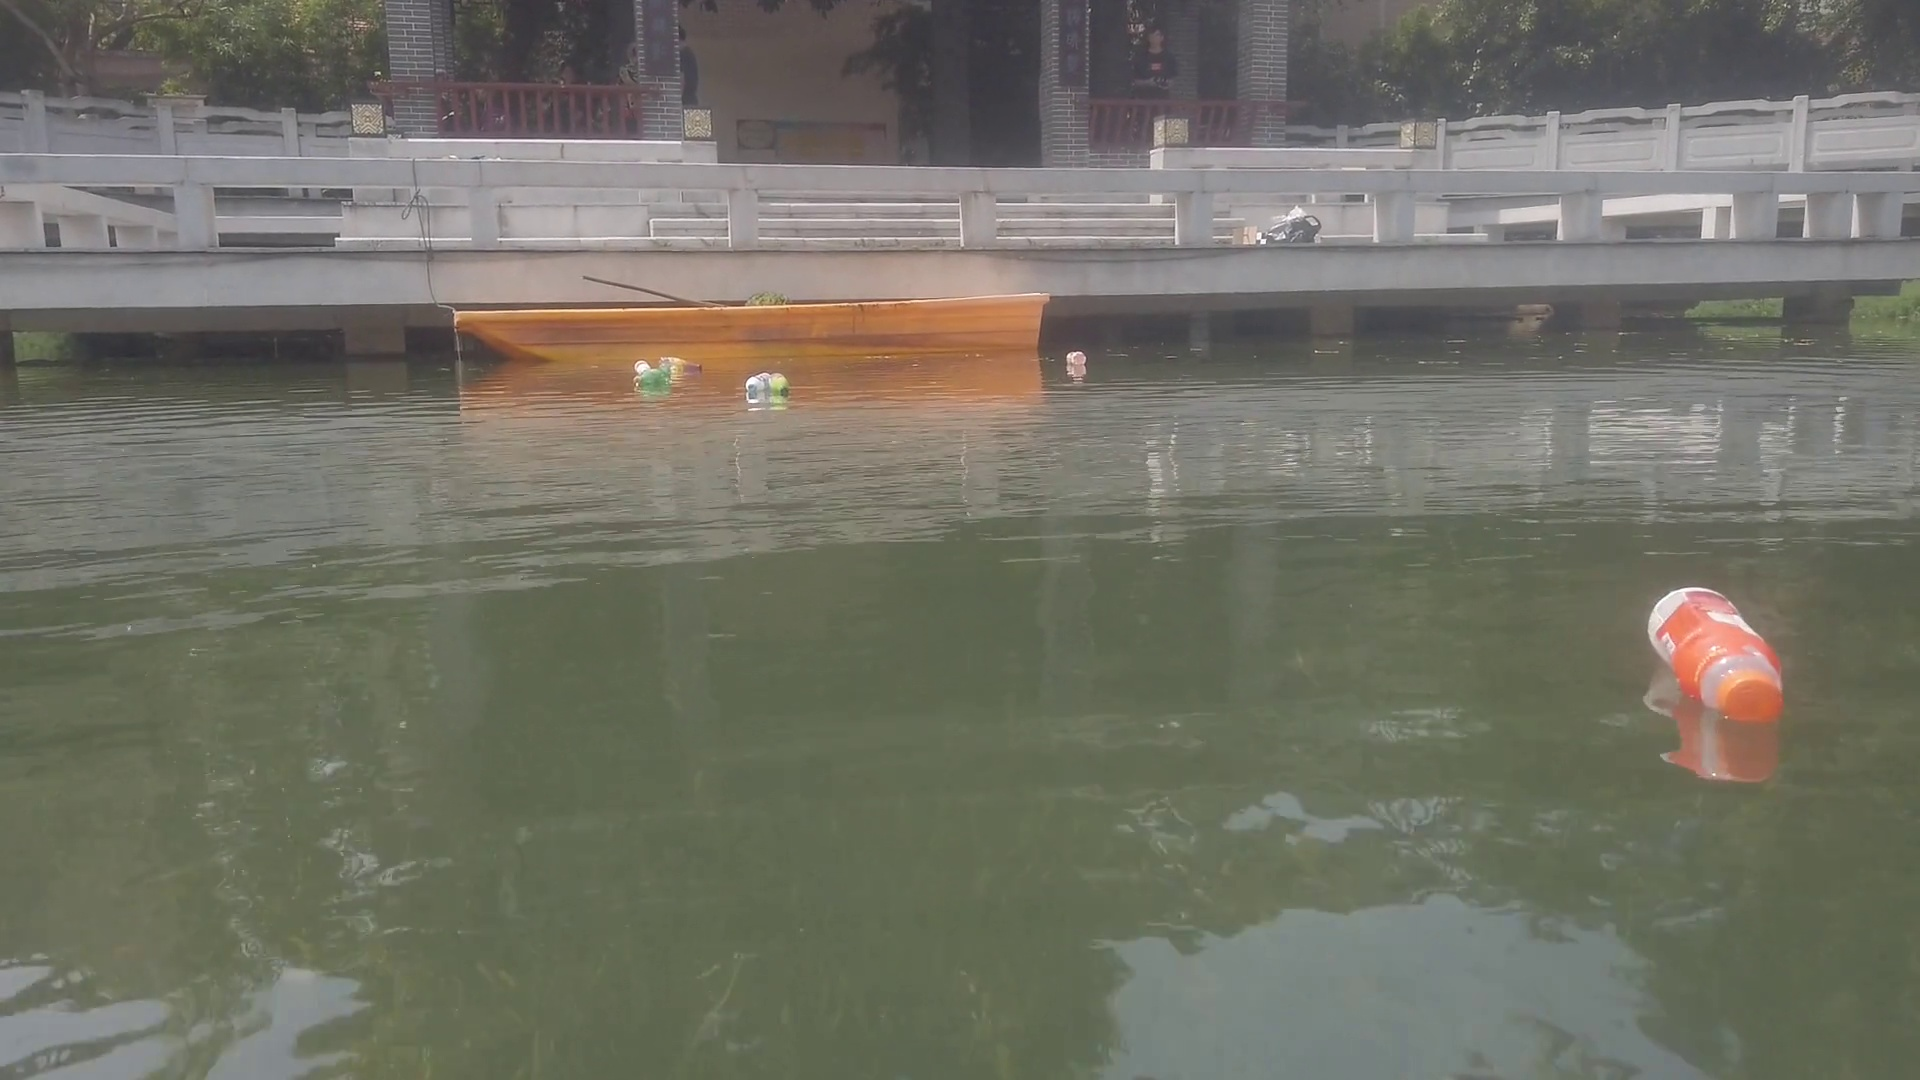bottle: (1646, 585, 1801, 724), (659, 357, 704, 376), (636, 369, 669, 393), (746, 371, 767, 397), (769, 375, 790, 397), (632, 357, 647, 375), (1065, 352, 1085, 364)
